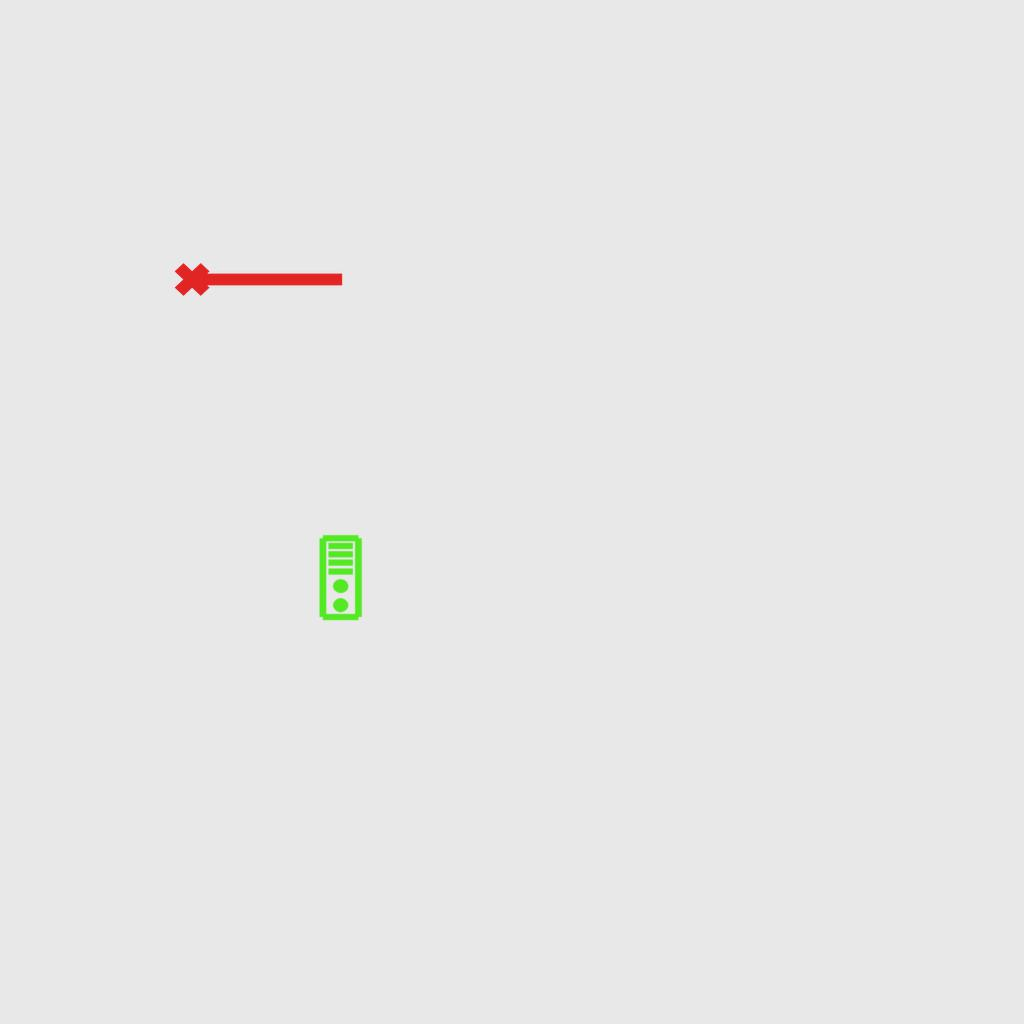ASR_Ansaugoeffnung: (172, 254, 348, 300)
Gegensprechanlage_mit_Video: (318, 534, 365, 622)
